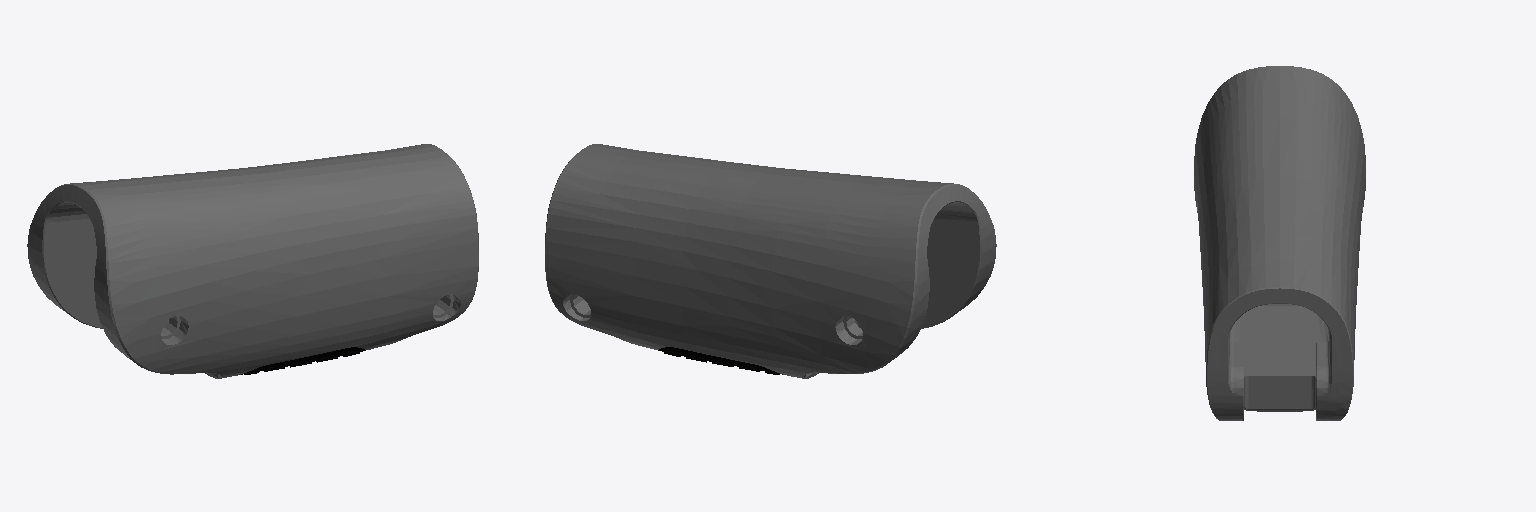
Rendered from R_index_proximal_link.obj.
The picture shows the model from 3 angles: view 1: azimuth 30°, elevation 25°; view 2: azimuth 150°, elevation 25°; view 3: azimuth 270°, elevation 25°; orthographic projection.
Visible parts, largest first — view 1: R_index_proximal_link; view 2: R_index_proximal_link; view 3: R_index_proximal_link.
Boxes of the visible parts, x1,y1,x2,y2 form: R_index_proximal_link: [27, 144, 478, 378]; R_index_proximal_link: [545, 144, 996, 378]; R_index_proximal_link: [1194, 66, 1365, 420].
Size of the model in its own units: 0.0425 by 0.0233 by 0.0169.